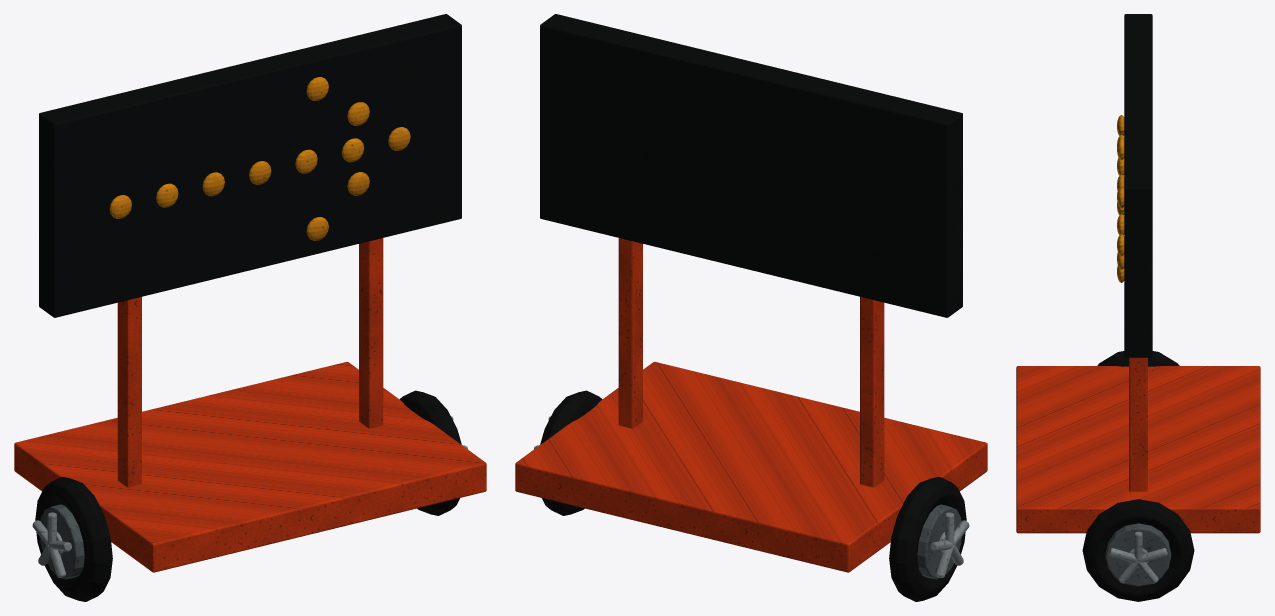
Rendered from PROP-6F830F9B52DC_lod0.glb.
3 renders of one model, left to right at view 1: azimuth 30°, elevation 25°; view 2: azimuth 150°, elevation 25°; view 3: azimuth 270°, elevation 25°, orthographic. The views are drawn at different scales.
Parts seen in each view (by area): view 1: arrow_board, trailer_chassis, arrow_board_legs, tire, arrow_bulbs, arrow_head_bulbs, rim, rim_spokes; view 2: arrow_board, trailer_chassis, arrow_board_legs, tire, rim, rim_spokes; view 3: trailer_chassis, arrow_board, tire, arrow_board_legs, rim, rim_spokes, arrow_bulbs, arrow_head_bulbs.
Boxes of the visible parts, x1,y1,x2,y2 form: arrow_board: (39, 14, 461, 317); trailer_chassis: (14, 362, 486, 572); arrow_board_legs: (117, 238, 383, 487); tire: (35, 390, 461, 601); arrow_bulbs: (109, 127, 410, 218); arrow_head_bulbs: (306, 77, 369, 240); rim: (40, 504, 84, 579); rim_spokes: (32, 416, 467, 577); arrow_board: (540, 14, 962, 317); trailer_chassis: (515, 362, 987, 572); arrow_board_legs: (618, 238, 884, 487); tire: (540, 390, 966, 601); rim: (917, 504, 961, 579); rim_spokes: (534, 416, 969, 577); trailer_chassis: (1016, 366, 1260, 533); arrow_board: (1124, 14, 1152, 357); tire: (1082, 351, 1194, 601); arrow_board_legs: (1129, 357, 1147, 491); rim: (1105, 523, 1171, 586); rim_spokes: (1109, 531, 1167, 583); arrow_bulbs: (1117, 115, 1124, 256); arrow_head_bulbs: (1117, 138, 1124, 282).
Bounding box in the file's own units: 2.2 × 2.5 × 1.3.
6 materials, 6 textured.
